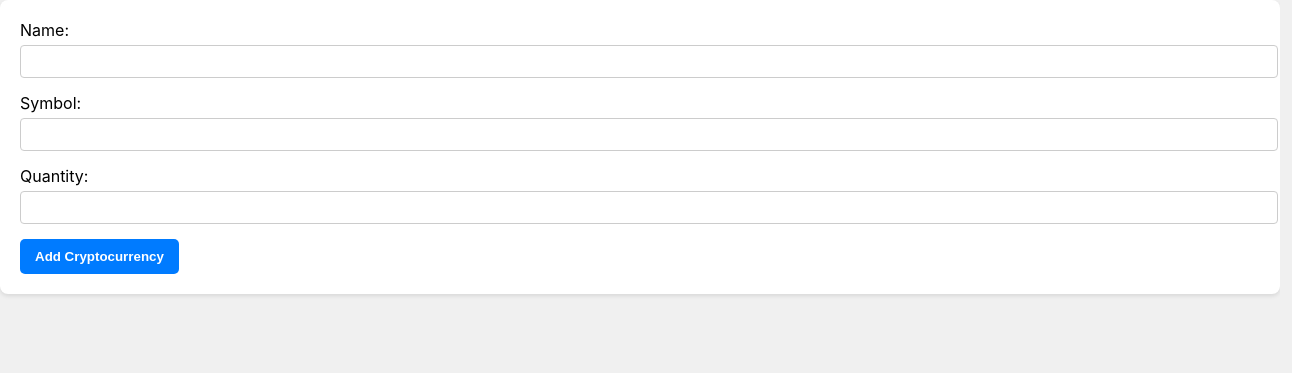
Test: AddCryptoForm › displays error message for invalid input
The width and height of the screenshot is (1292, 373).
Type "-1" into the number field labelled "Quantity:" at (649, 208), box x1=20 y1=191 x2=1278 y2=224
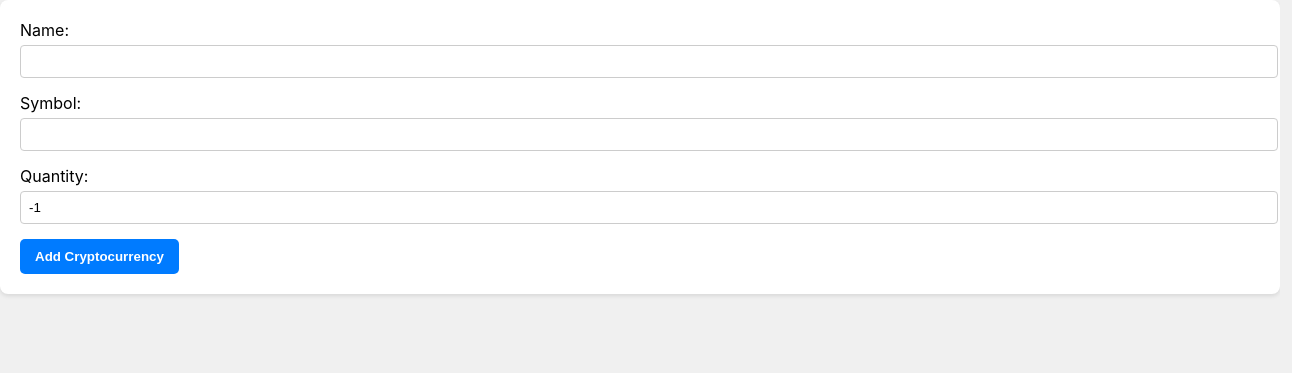
Submit the form
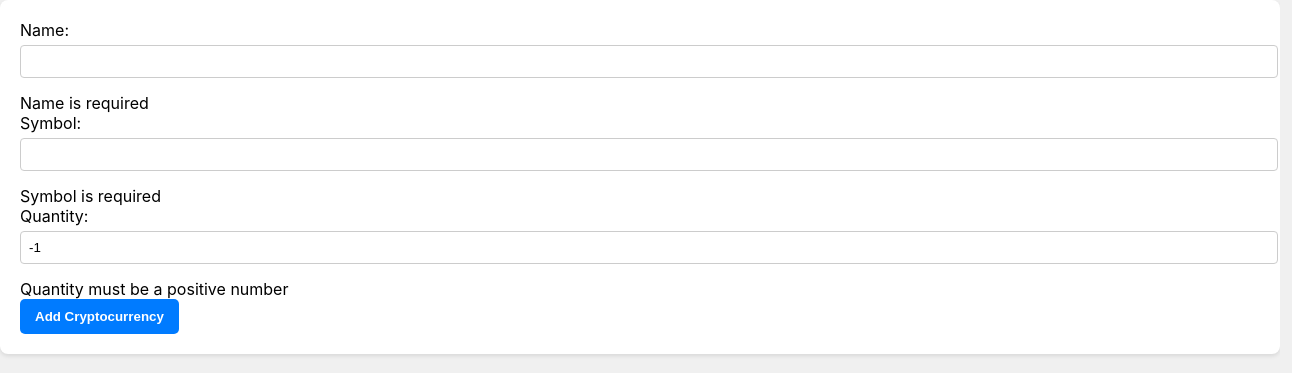
Expected: the text "Name is required" is shown, x1=20 y1=93 x2=149 y2=113
Expected: the text "Symbol is required" is shown, x1=20 y1=186 x2=161 y2=206
Expected: the text "Quantity must be a positive number" is shown, x1=20 y1=279 x2=288 y2=299
